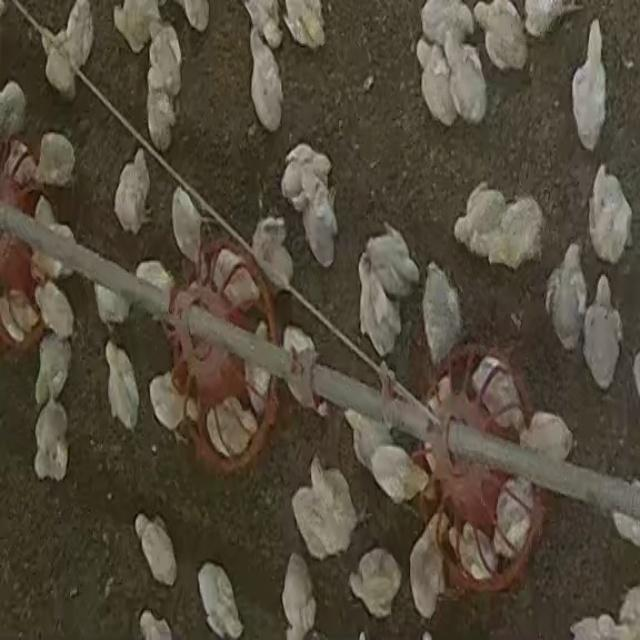chicken: (356, 251, 404, 357), (362, 221, 421, 300), (570, 21, 606, 148), (582, 276, 621, 390), (588, 167, 633, 265), (421, 262, 462, 366), (546, 248, 586, 352), (489, 198, 545, 270), (314, 458, 357, 550), (348, 546, 401, 620), (447, 30, 488, 124), (472, 1, 526, 72), (366, 442, 425, 506), (451, 182, 508, 248), (280, 142, 332, 213), (249, 26, 283, 134), (280, 325, 321, 414), (346, 411, 396, 483), (493, 479, 537, 560), (419, 37, 458, 128), (32, 196, 74, 280), (408, 520, 444, 618), (196, 564, 244, 636), (114, 148, 152, 234), (34, 329, 74, 408), (104, 342, 140, 429), (251, 216, 291, 294), (135, 514, 177, 588), (302, 183, 338, 268), (33, 399, 70, 481), (147, 22, 183, 106), (519, 409, 573, 464), (446, 525, 500, 580), (242, 321, 275, 410), (206, 398, 256, 456), (292, 486, 332, 558), (418, 1, 472, 53), (282, 556, 316, 636), (113, 0, 163, 53), (36, 278, 76, 340), (212, 249, 257, 304), (35, 131, 78, 188), (479, 359, 517, 423), (280, 1, 327, 51), (146, 79, 177, 152), (171, 186, 200, 264), (524, 1, 583, 39), (64, 1, 95, 72), (239, 1, 281, 52), (148, 372, 183, 433), (44, 39, 76, 101), (93, 279, 132, 328), (1, 284, 37, 336), (134, 260, 174, 303), (0, 80, 27, 140), (611, 508, 640, 556), (4, 144, 35, 187), (570, 616, 616, 640), (618, 584, 640, 630), (180, 1, 209, 33)
